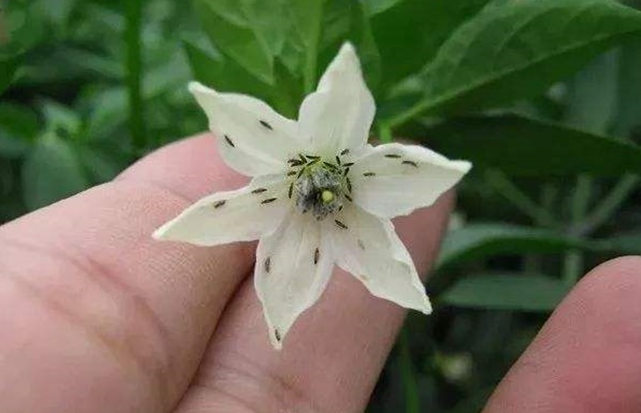thrips: (284, 152, 301, 167), (222, 133, 238, 148), (312, 247, 323, 267), (262, 254, 272, 275), (333, 217, 348, 231), (284, 169, 305, 179), (402, 158, 421, 169), (256, 118, 274, 129), (258, 195, 280, 204), (384, 150, 403, 160), (251, 185, 269, 195), (286, 181, 295, 200), (272, 326, 283, 341), (213, 198, 228, 209), (345, 176, 354, 192), (307, 159, 322, 168), (340, 160, 356, 168), (340, 193, 354, 202), (306, 152, 322, 159), (341, 166, 351, 177), (334, 154, 342, 166), (323, 161, 336, 168), (364, 169, 375, 177)
